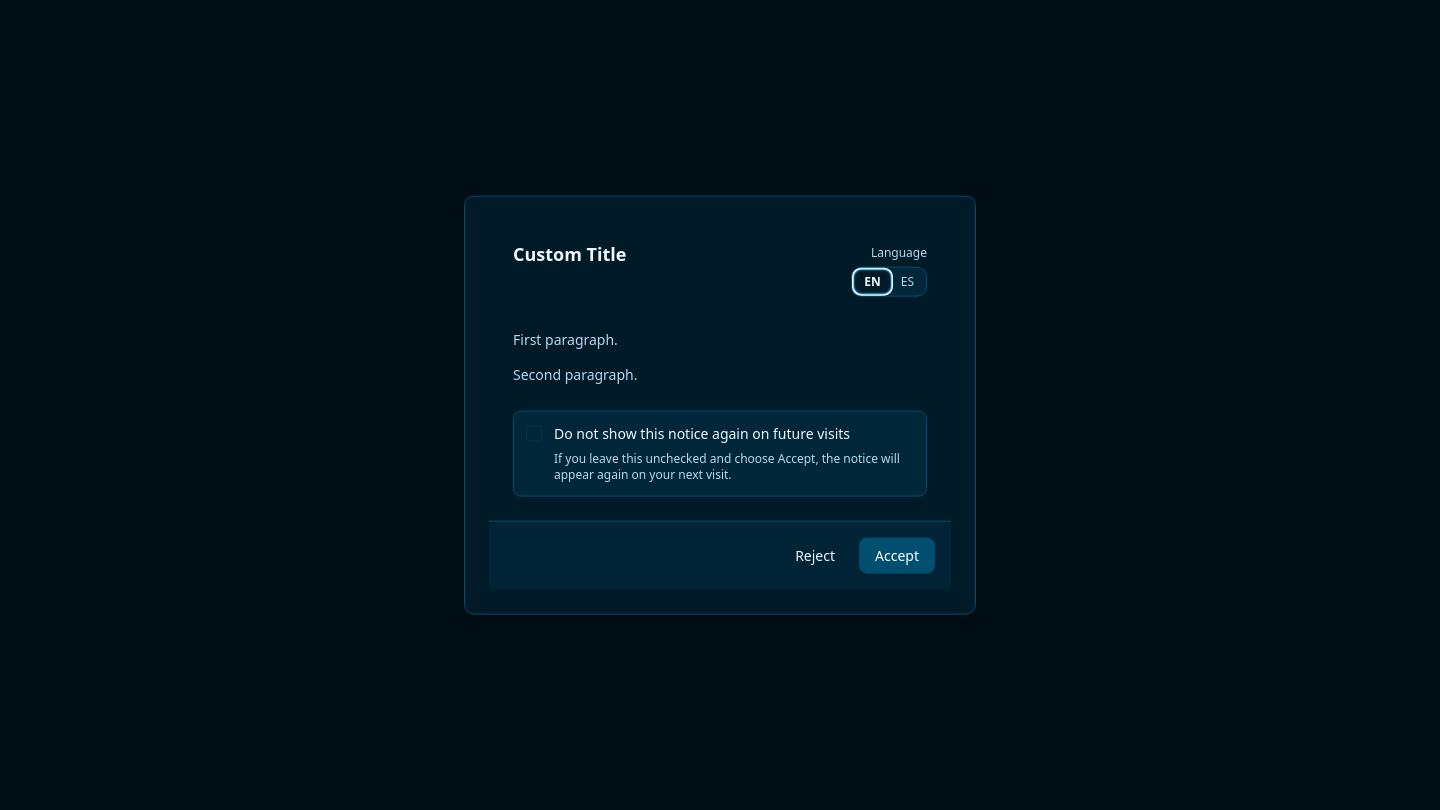
Test: DisclaimerModal › renders custom disclaimer copy and toggles locale pills
Expected: the heading "Custom Title" is shown, [513,245,634,263]
Expected: the text "First paragraph." is shown, [513,330,618,349]
Click the button "ES" at (907, 282), box [891,270,924,294]
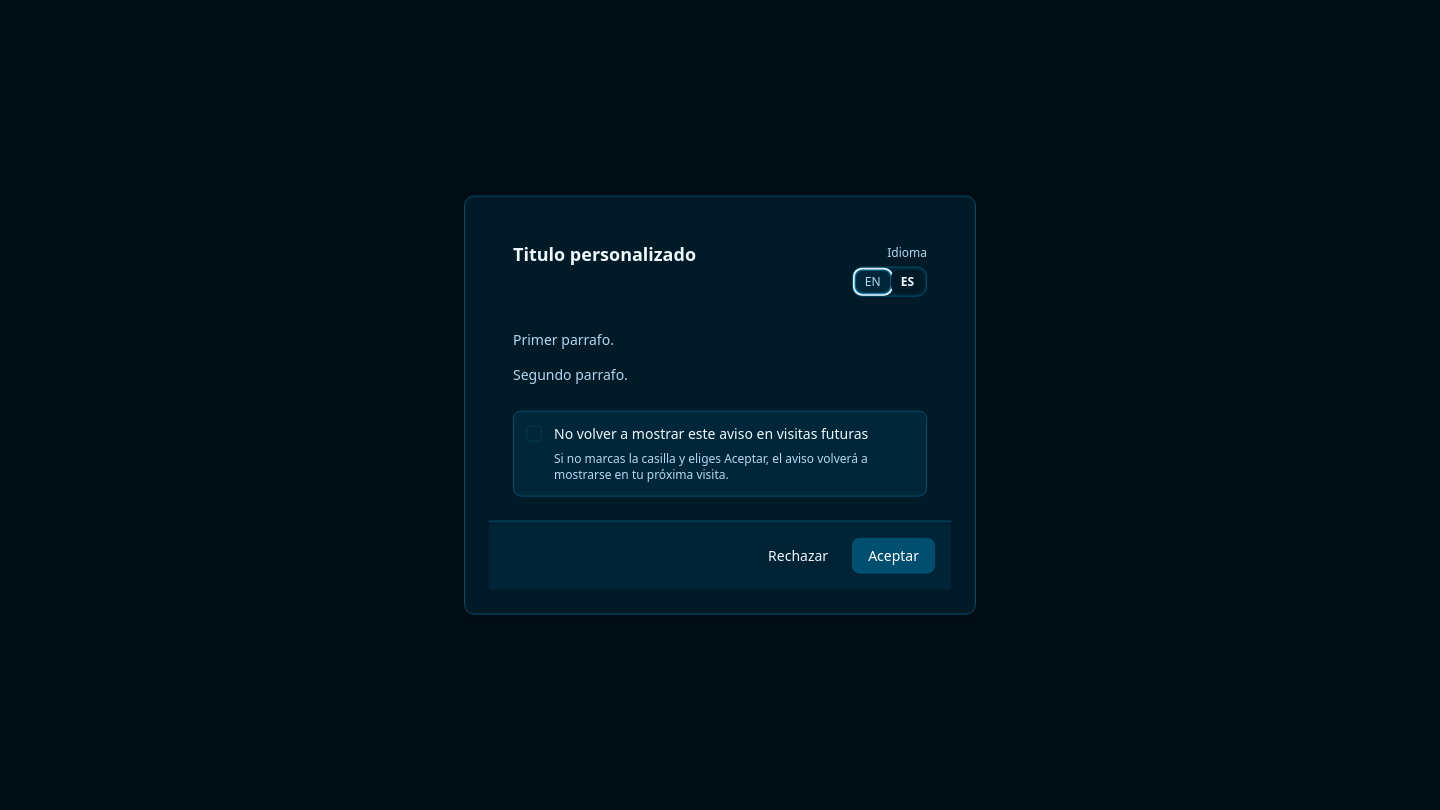
Expected: the heading "Titulo personalizado" is shown, [513,245,704,263]
Expected: the text "Primer parrafo." is shown, [513,330,614,349]
Expected: the text "Segundo parrafo." is shown, [513,364,628,383]
